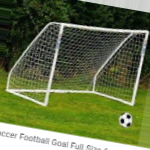goals: (5, 20, 150, 111)
